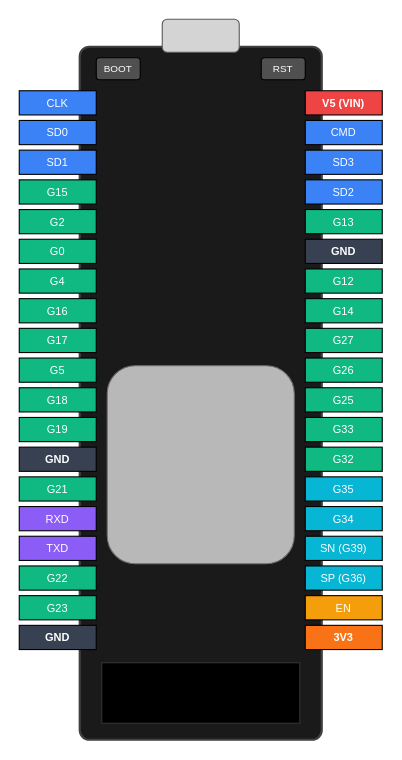
Some shapes in this 402 by 760 pixel diagram are drawn without their labels. The centre of each missing label's shape, as x and y in pixels:
"ESP-WROOM-32 Wi-Fi + BLE" goes at pixel 200 464.
"PCB ANTENNA" goes at pixel 200 692.
"USB-C" goes at pixel 200 35.
